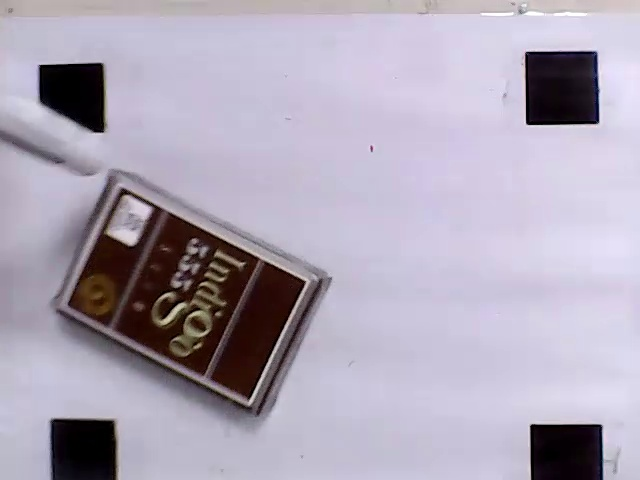BEX: (63, 182, 307, 406)
